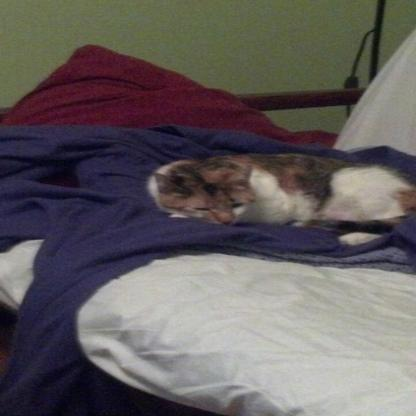Target: (150, 156, 416, 244)
